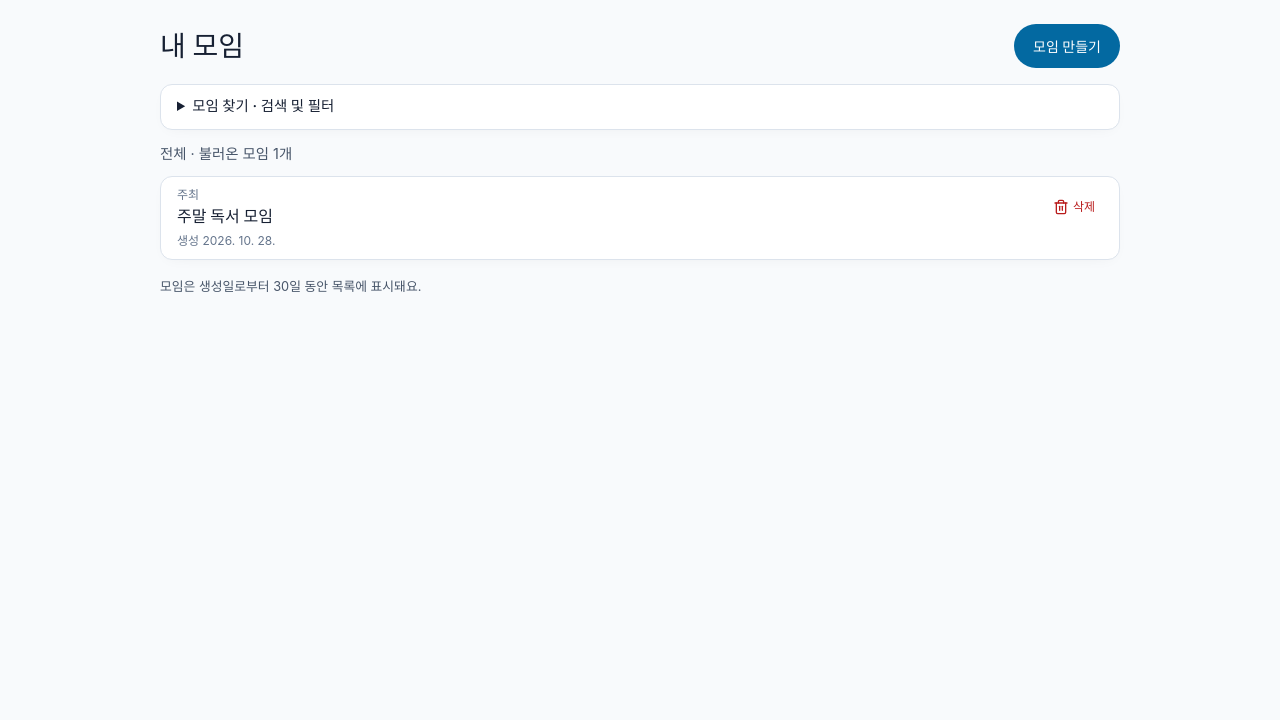
Test: requires confirmation and restores focus after cancellation
Click the button with aria-label "주말 독서 모임 내 목록에서 삭제". click: (1074, 208)
box: [1045, 186, 1103, 230]
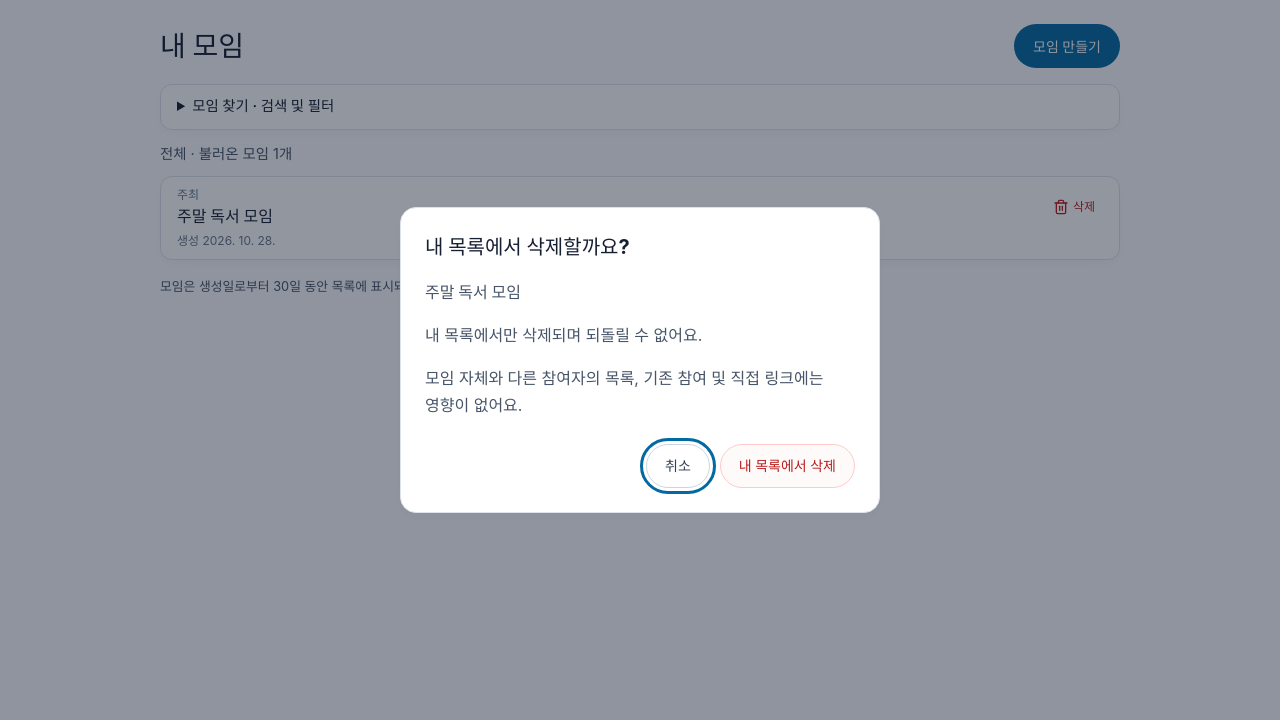
Click the button "취소". click: (678, 466)
box: [646, 444, 710, 488]
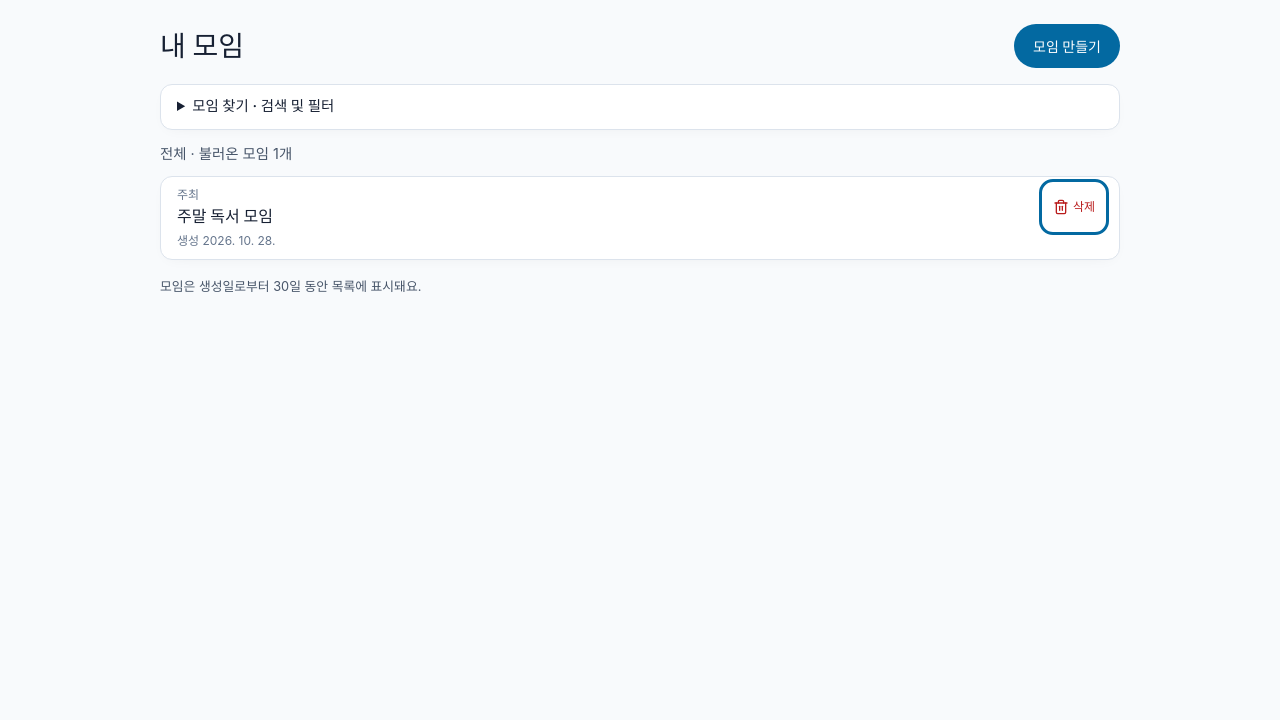
Result: the dialog is gone
